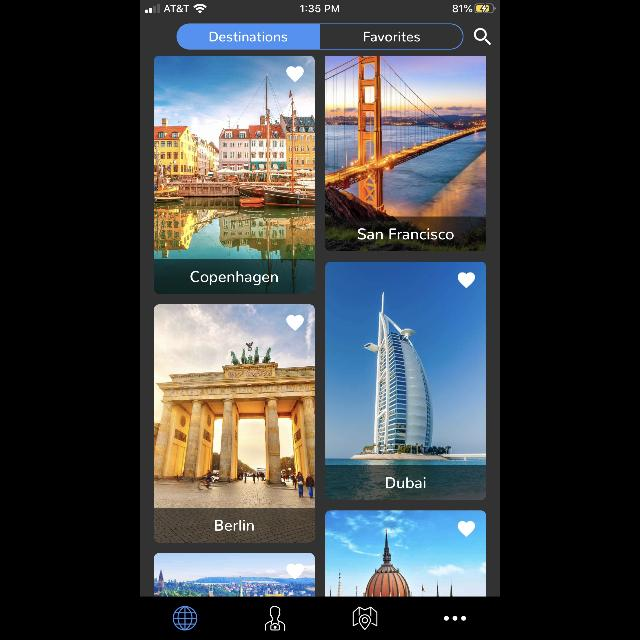icon: (353, 606, 377, 630), (265, 606, 285, 630), (474, 28, 491, 46), (458, 273, 476, 289), (286, 315, 304, 331), (286, 66, 304, 82), (458, 522, 474, 536)
image: (326, 262, 486, 500), (155, 305, 315, 543), (154, 56, 314, 294), (326, 56, 486, 252), (326, 510, 486, 596), (154, 554, 314, 596), (173, 606, 197, 630)
pageindicator: (444, 616, 466, 620)
text: (190, 271, 278, 285), (358, 228, 454, 240), (386, 478, 426, 488), (216, 520, 254, 530)
textbutton: (321, 24, 464, 50), (178, 24, 320, 50)
uppertaskbar: (140, 0, 500, 14)
